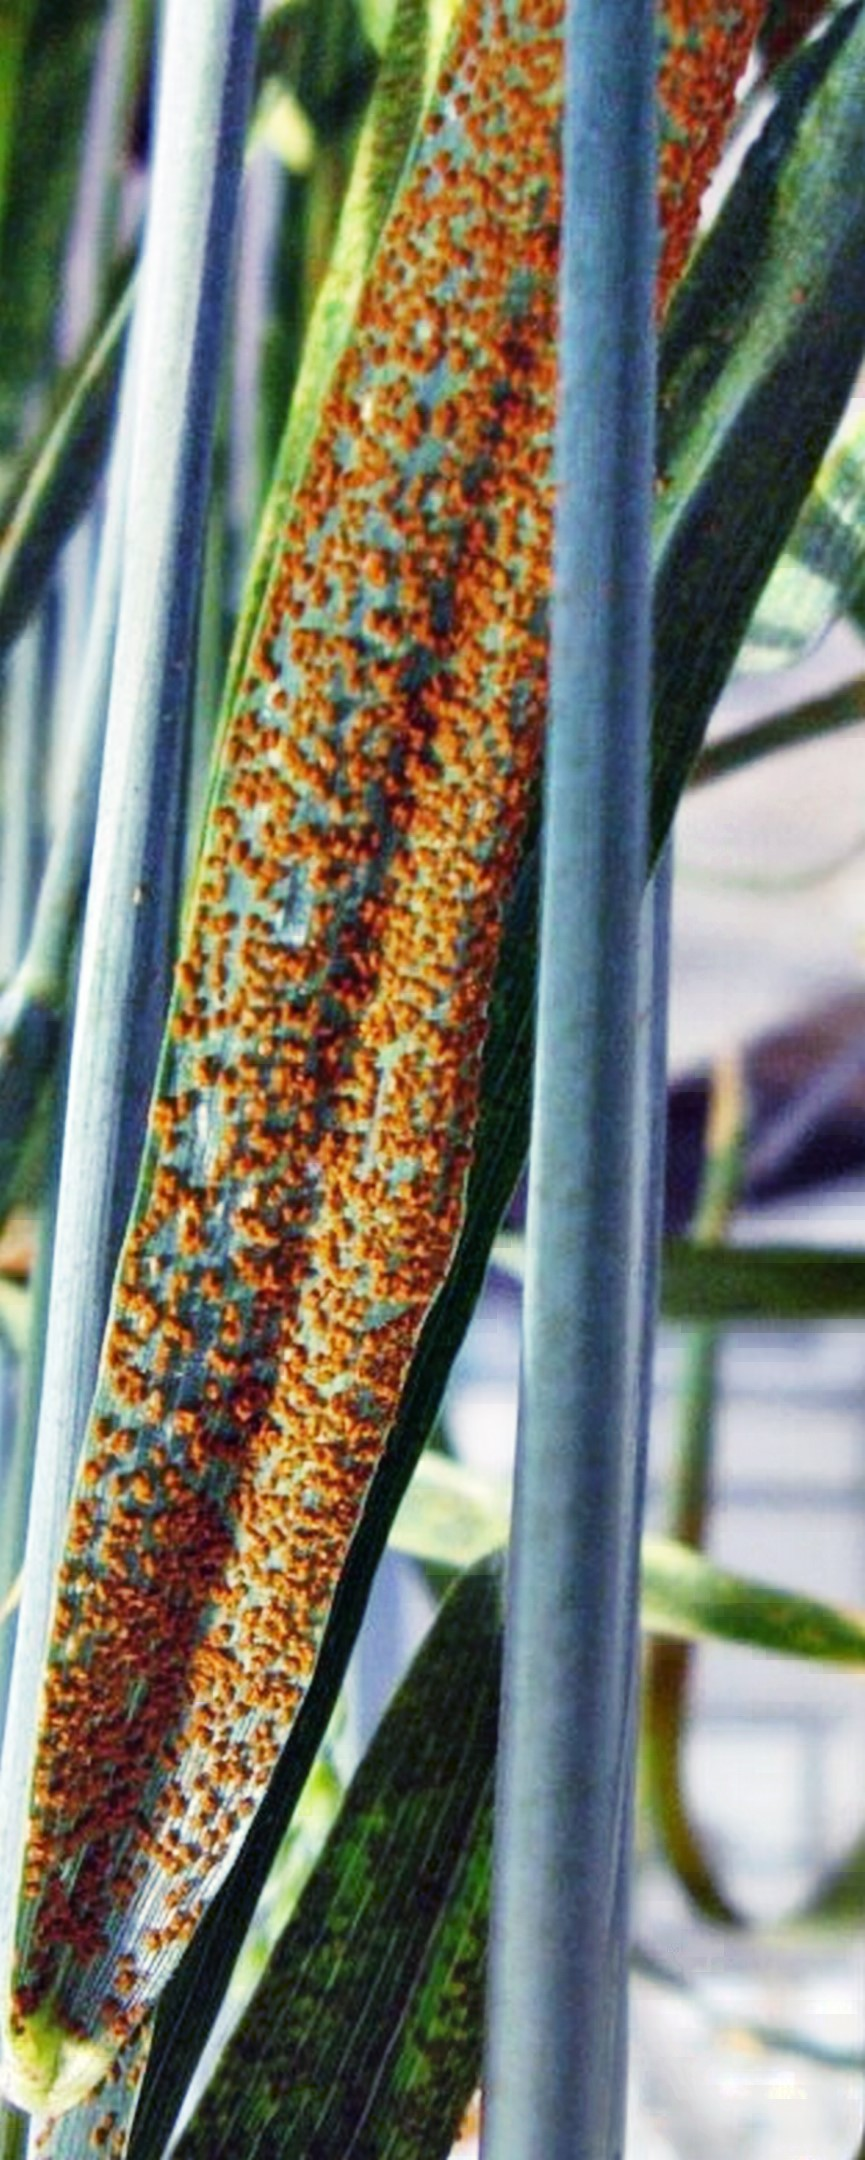Leaf Rust: (50, 39, 573, 1977)
